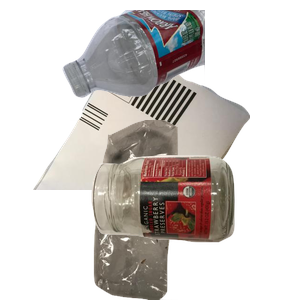glass: (89, 153, 300, 300)
paper: (31, 35, 271, 215)
plastic: (60, 10, 300, 100)
trash: (70, 120, 256, 300)
